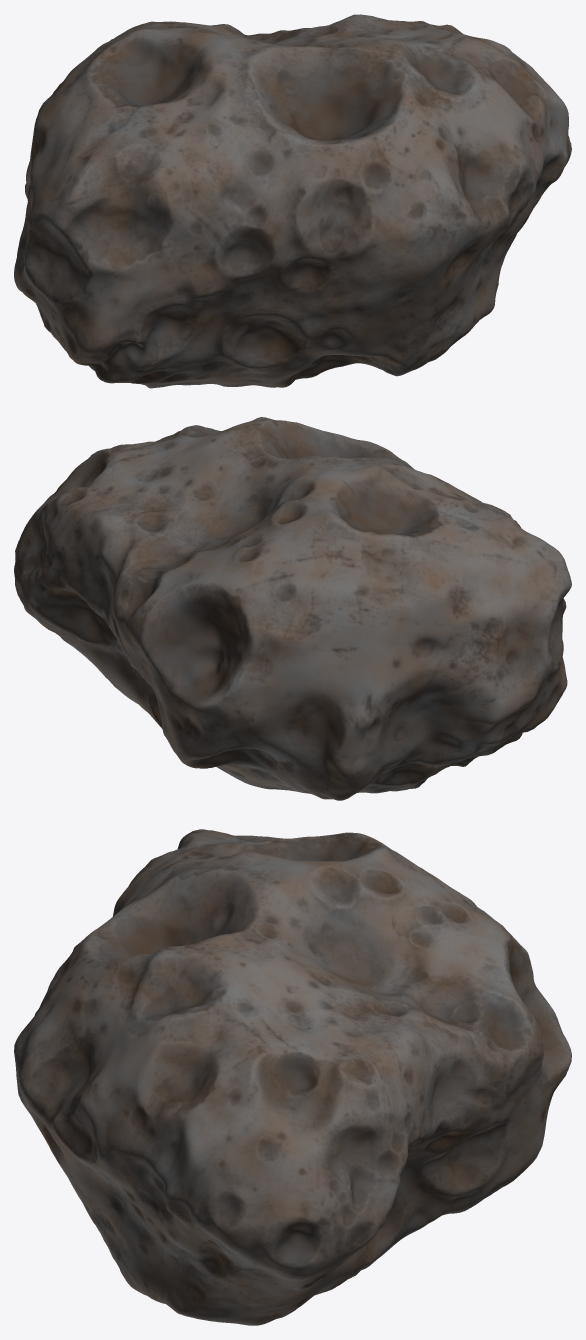
File: meteorite.glb
3 renders of one model, top to bottom at view 1: azimuth 30°, elevation 25°; view 2: azimuth 150°, elevation 25°; view 3: azimuth 270°, elevation 25°, orthographic. The views are drawn at different scales.
Visible parts, largest first — view 1: Meteorite; view 2: Meteorite; view 3: Meteorite.
Boxes of the visible parts, x1=… form: Meteorite: x1=14, y1=14, x2=571, y2=388; Meteorite: x1=14, y1=417, x2=571, y2=800; Meteorite: x1=14, y1=829, x2=571, y2=1325.
Size of the model in its own units: 7.19 by 4.26 by 5.62.
Materials: 1 (1 with a texture image).
